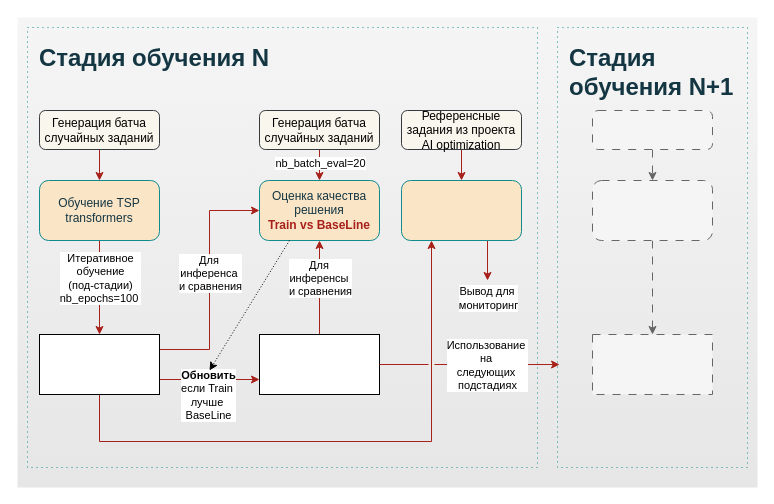
This 774x504 diagram has some shape labels left out. The shapes that lost their labels are listed below. From the top down, each one's centre as x and y in pixels, then its label:
At point (461, 210): "Тестирование качества решения".
At point (99, 364): "Training Net".
At point (319, 364): "BaseLine Net".
